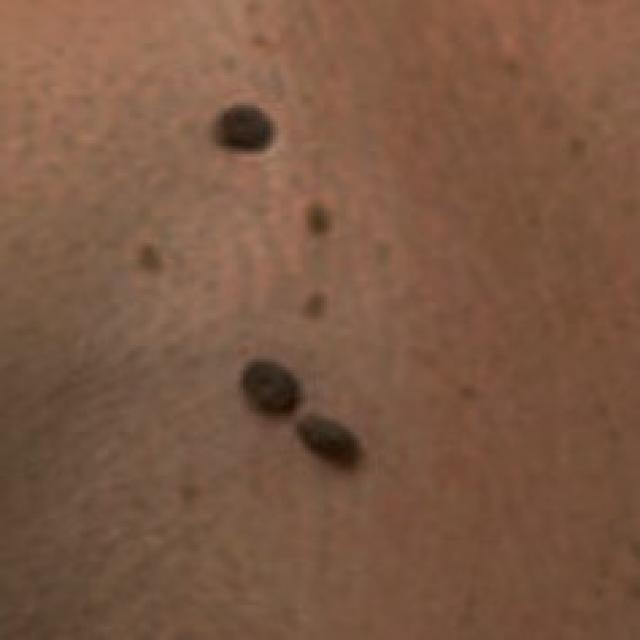wart: (224, 340, 397, 505), (178, 68, 297, 178)
